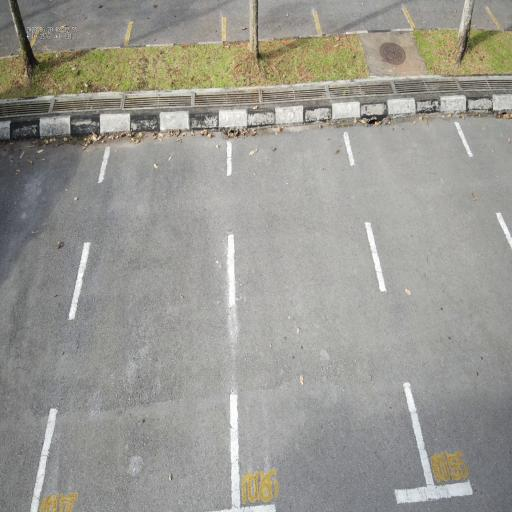Empty: (224, 106, 440, 512), (24, 115, 243, 512)
